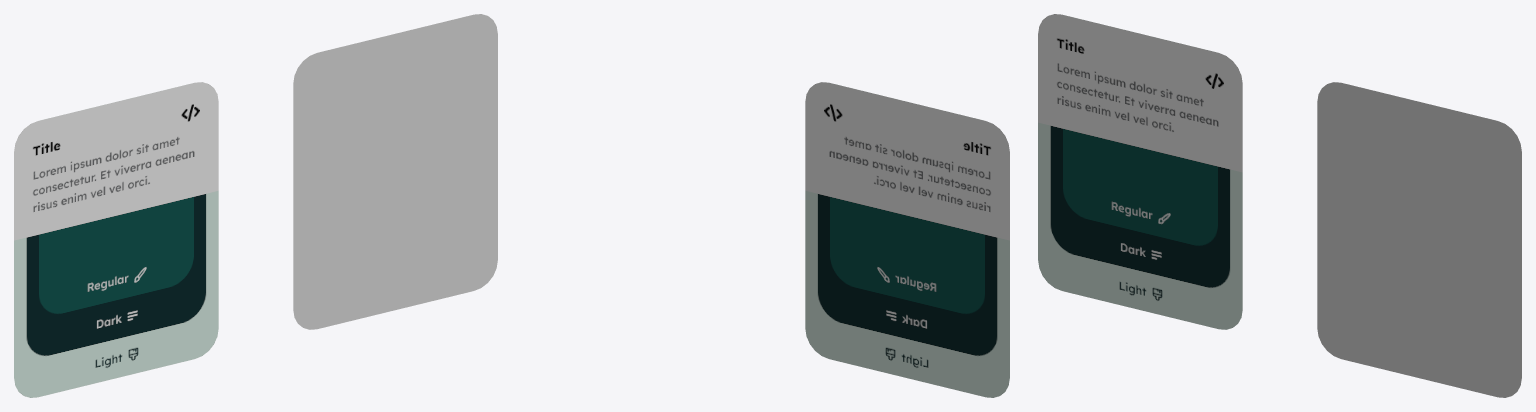
The model's file is color-card-prueba.glb.
3 views of the same model, side by side, from view 1: azimuth 30°, elevation 25°; view 2: azimuth 150°, elevation 25°; view 3: azimuth 330°, elevation 25° (orthographic).
Visible parts, largest first — view 1: card-uno, card-dos; view 2: card-uno; view 3: card-uno, card-dos.
Boxes of the visible parts, bbox=[...] form: card-uno: bbox=[14, 82, 218, 397]; card-dos: bbox=[293, 14, 497, 329]; card-uno: bbox=[805, 82, 1009, 397]; card-uno: bbox=[1038, 14, 1242, 329]; card-dos: bbox=[1317, 82, 1521, 397].
Size of the model in its own units: 7.61 by 4.16 by 9.23e-16.
1 material, 1 textured.
